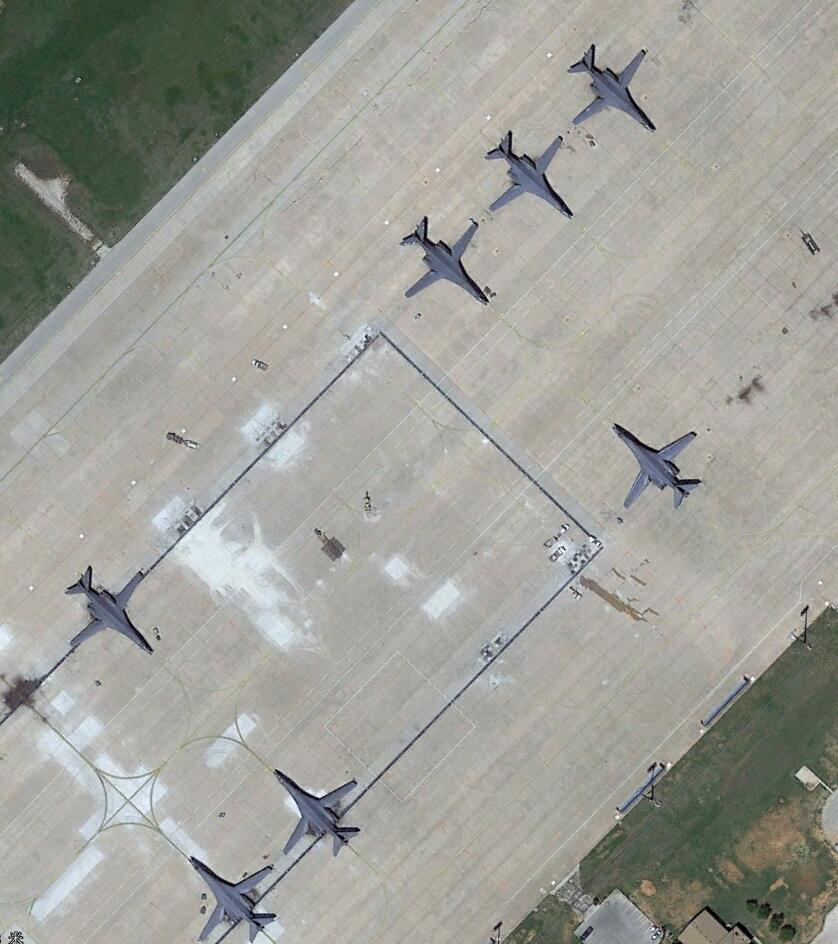A10: (612, 418, 704, 519), (569, 37, 658, 138), (64, 564, 160, 657), (396, 214, 489, 309), (186, 853, 282, 944), (271, 764, 364, 857), (489, 126, 570, 223)
